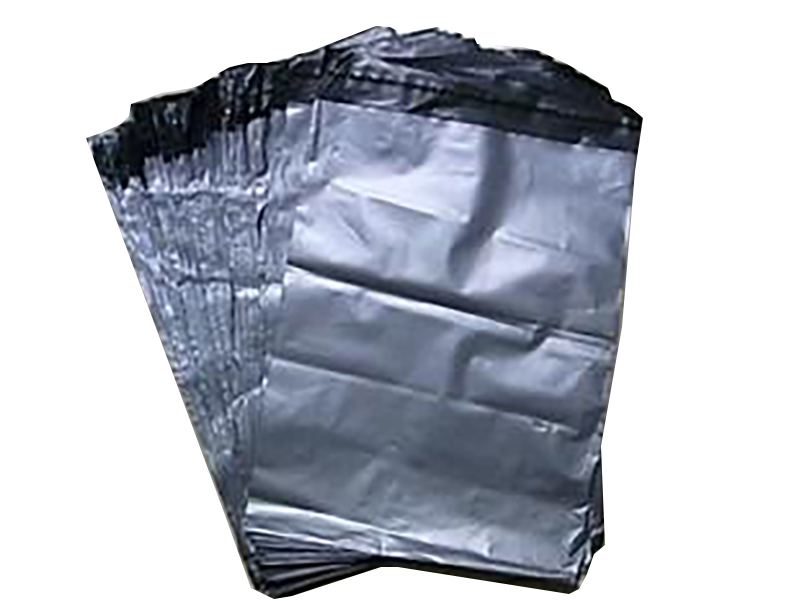Parcel: (89, 27, 640, 588)
